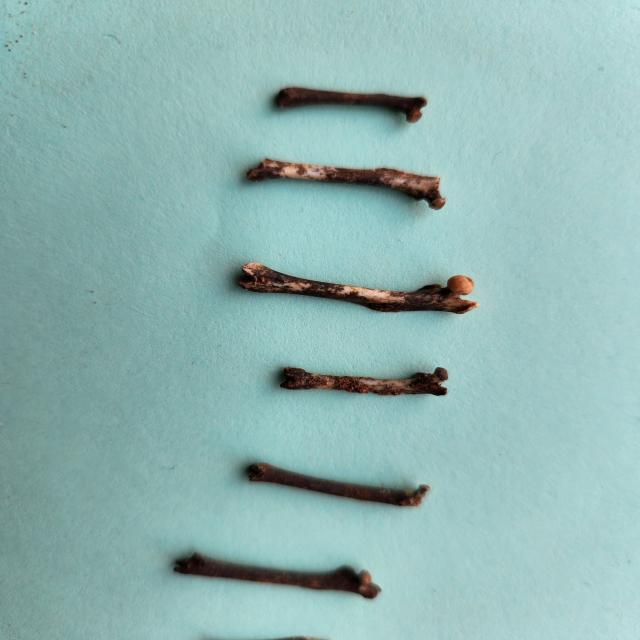fossil: (221, 254, 489, 327), (151, 544, 404, 606), (234, 151, 466, 214), (239, 452, 439, 522), (269, 356, 466, 410), (264, 78, 442, 128)
